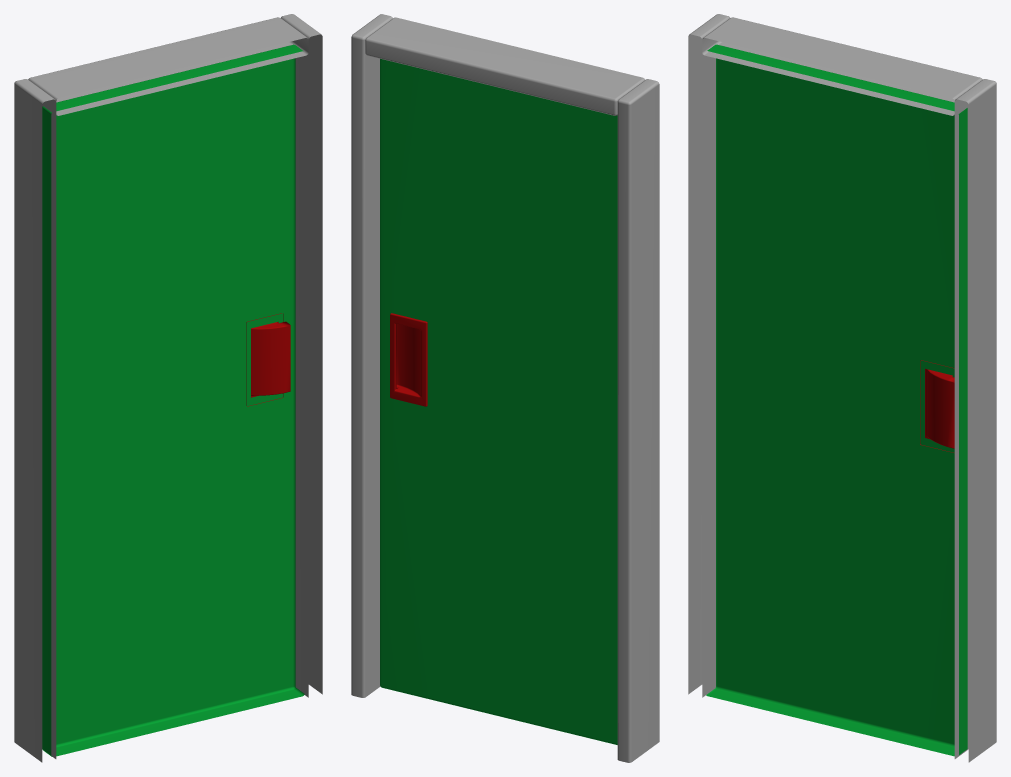
The model's file is Door.fbx.
The picture shows the model from 3 angles, left to right: view 1: azimuth 30°, elevation 25°; view 2: azimuth 150°, elevation 25°; view 3: azimuth 330°, elevation 25°; orthographic projection.
Parts seen in each view (by area): view 1: Door, DoorFrame; view 2: Door, DoorFrame; view 3: Door, DoorFrame.
Boxes of the visible parts, box(x1,y1,x2,y2) form: Door: box(42, 44, 304, 756); DoorFrame: box(14, 14, 322, 762); Door: box(380, 58, 617, 744); DoorFrame: box(351, 14, 659, 762); Door: box(706, 44, 967, 756); DoorFrame: box(688, 14, 996, 762).
Size of the model in its own units: 0.9671 by 2.18 by 0.1753.
